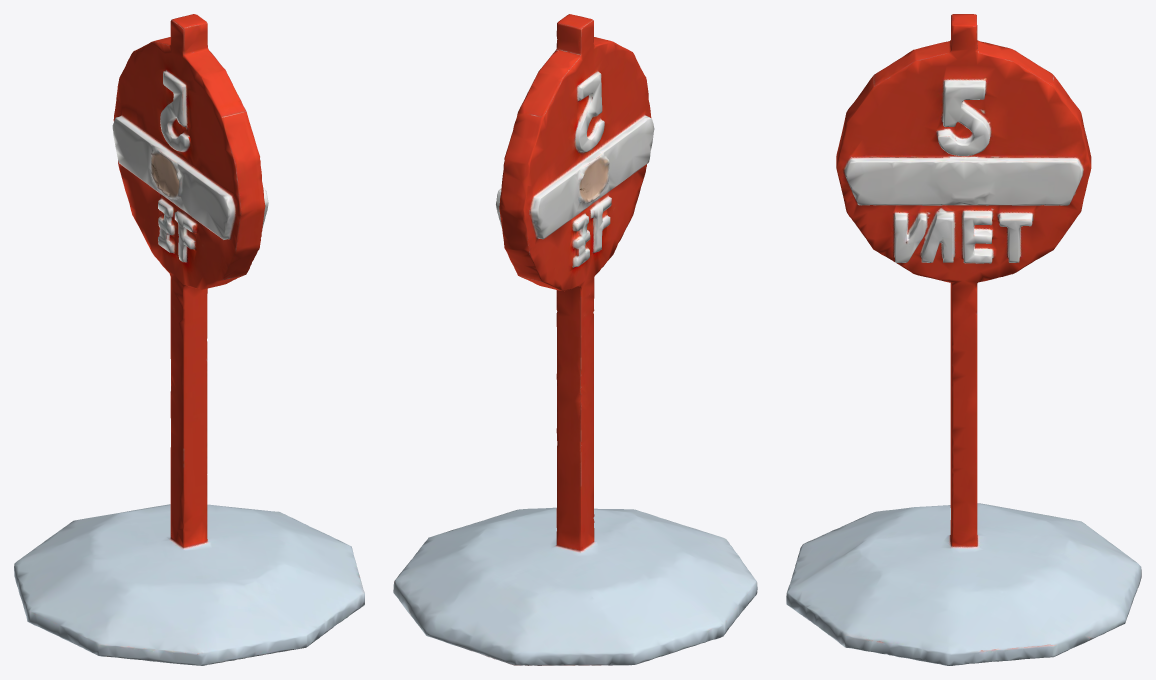
File: red_sign_v1.glb
3 renders of one model, left to right at view 1: azimuth 30°, elevation 25°; view 2: azimuth 150°, elevation 25°; view 3: azimuth 270°, elevation 25°, orthographic.
Visible parts, largest first — view 1: Mesh1.0; view 2: Mesh1.0; view 3: Mesh1.0.
Part boxes in pixels (left/top/right/bottom): Mesh1.0: left=14, top=14, right=364, bottom=665; Mesh1.0: left=393, top=14, right=757, bottom=665; Mesh1.0: left=786, top=14, right=1141, bottom=665.
Bounding box in the file's own units: 1.14 × 2.07 × 1.13.
1 material, 1 textured.
